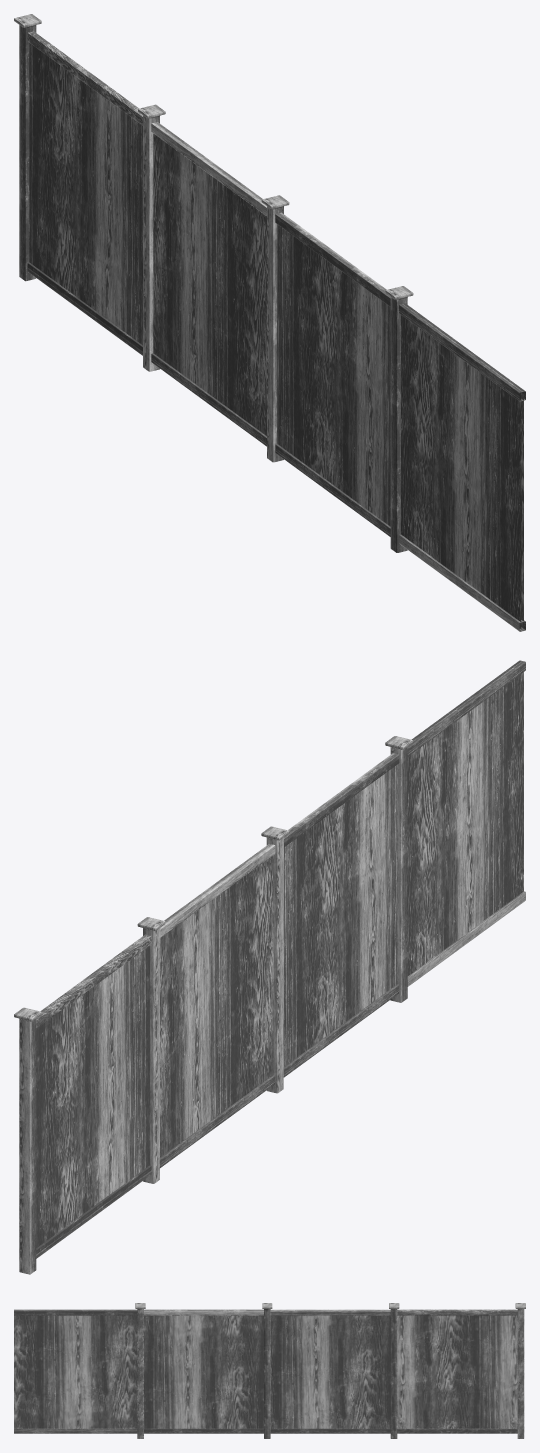
The model's file is SM_OutsideFence_A_800.fbx.
3 views of the same model, one above another, from view 1: azimuth 30°, elevation 25°; view 2: azimuth 150°, elevation 25°; view 3: azimuth 270°, elevation 25° (orthographic). The views are drawn at different scales.
Parts seen in each view (by area): view 1: SM_OutsideFence_A_800; view 2: SM_OutsideFence_A_800; view 3: SM_OutsideFence_A_800.
Part boxes in pixels (left/top/right/bottom): SM_OutsideFence_A_800: left=14, top=14, right=525, bottom=631; SM_OutsideFence_A_800: left=14, top=660, right=525, bottom=1274; SM_OutsideFence_A_800: left=14, top=1303, right=525, bottom=1438.
Bounding box in the file's own units: 17.2 × 808 × 230.
Materials: 2 (2 with a texture image).
